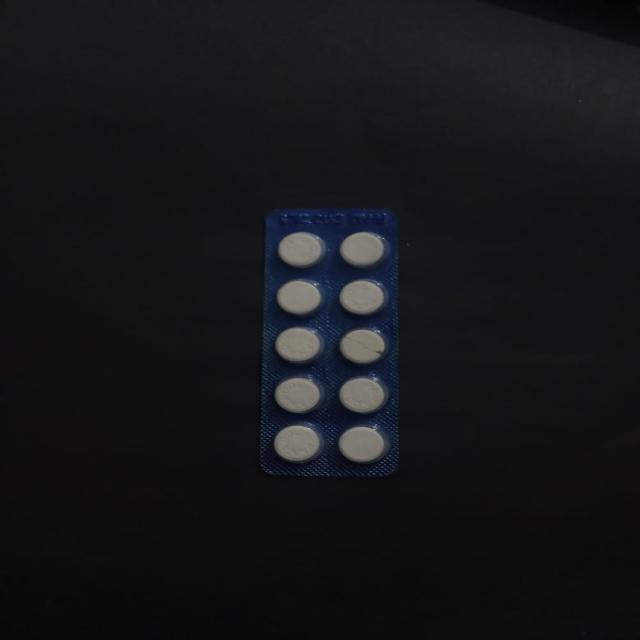defect: (337, 327, 389, 366)
